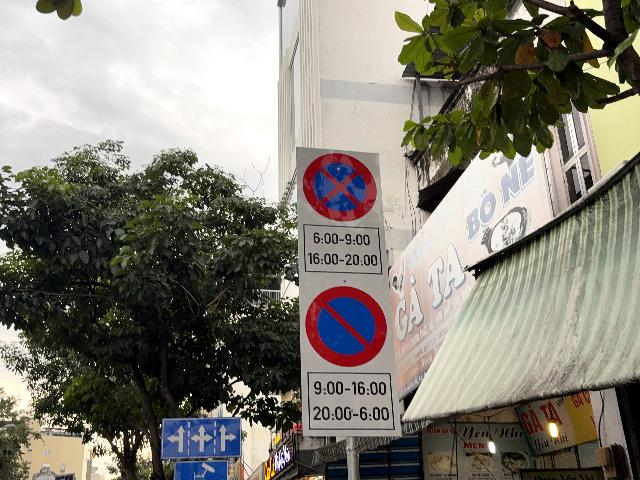cam-do-xe: (306, 286, 387, 367)
cam-dung-va-do-xe: (303, 153, 377, 221)
